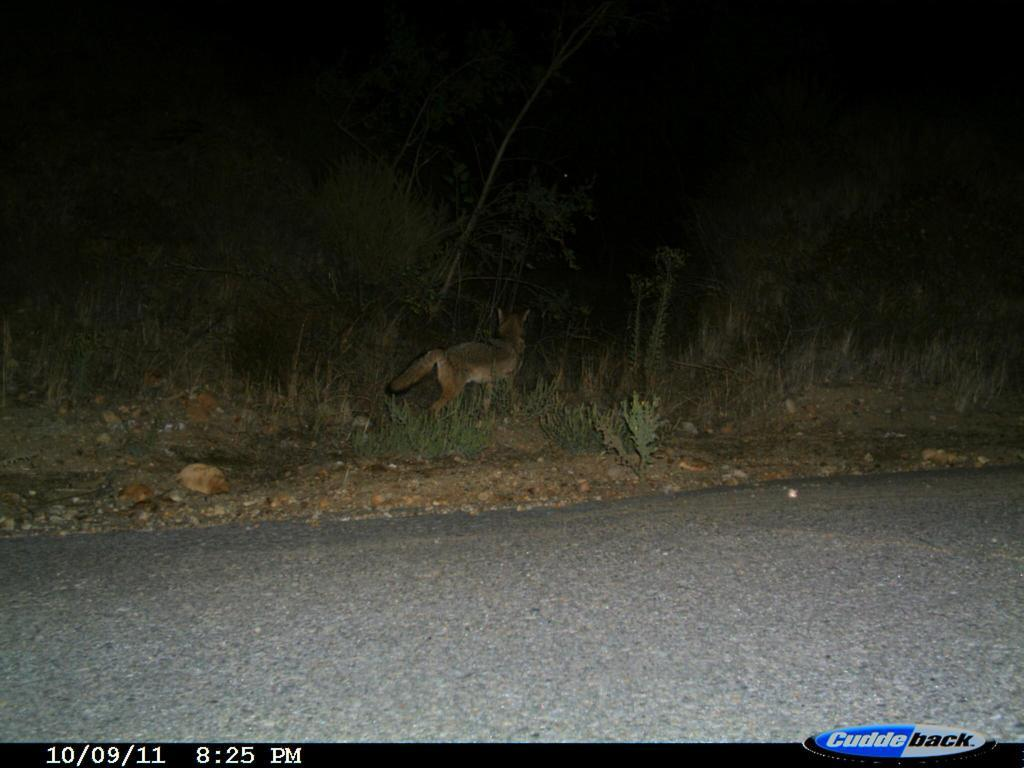coyote: (386, 296, 550, 428)
